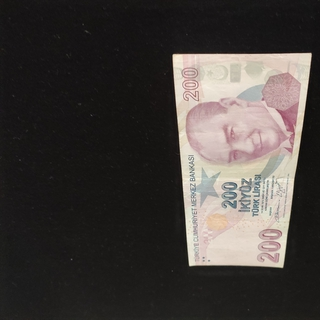200TLFront: (172, 52, 312, 268)
